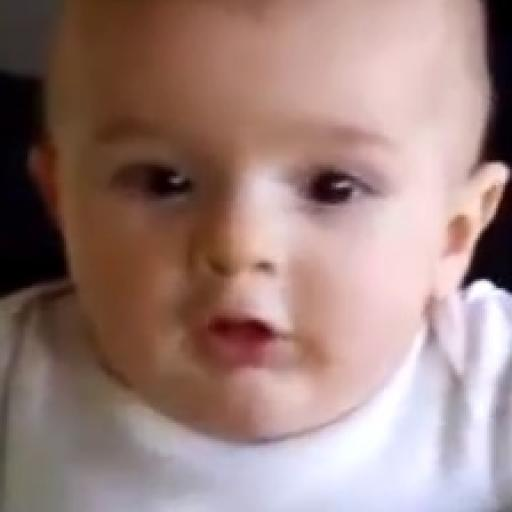Autism: (23, 2, 512, 497)
